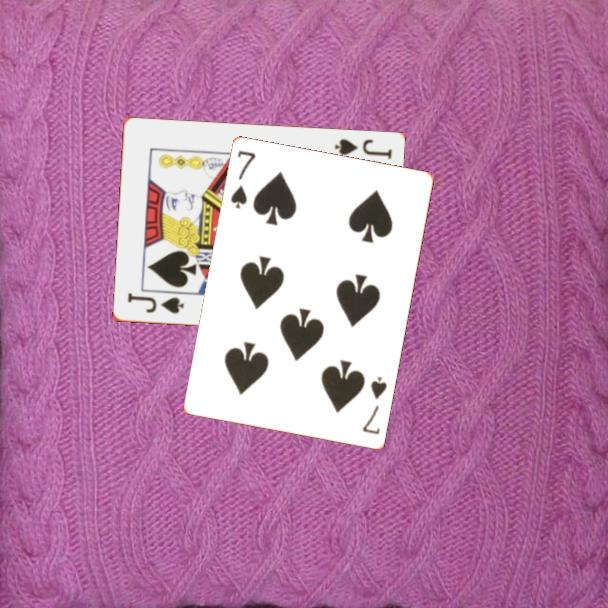s07: (227, 147, 259, 212), (359, 374, 390, 438)
s11: (124, 290, 187, 317), (331, 136, 394, 162)
